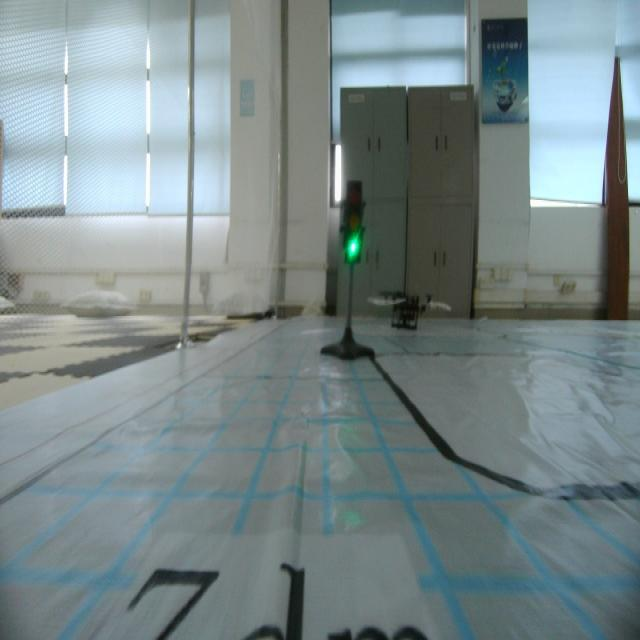green: (341, 178, 367, 264)
